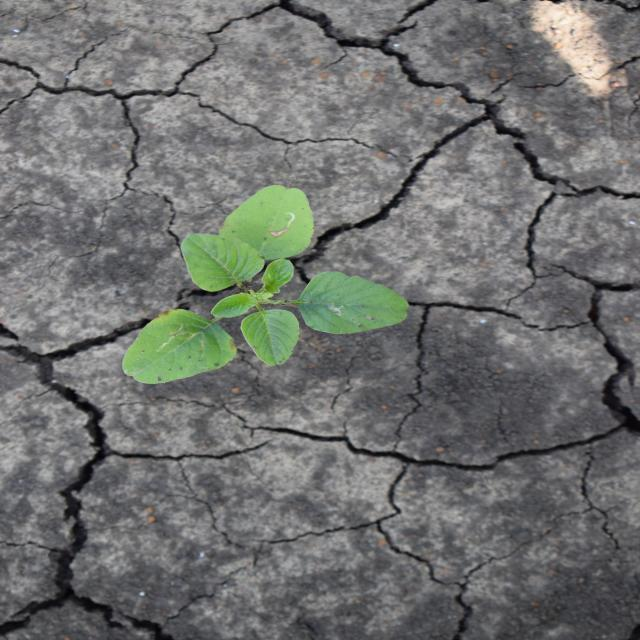PalmerAmaranth: (117, 182, 413, 386)
